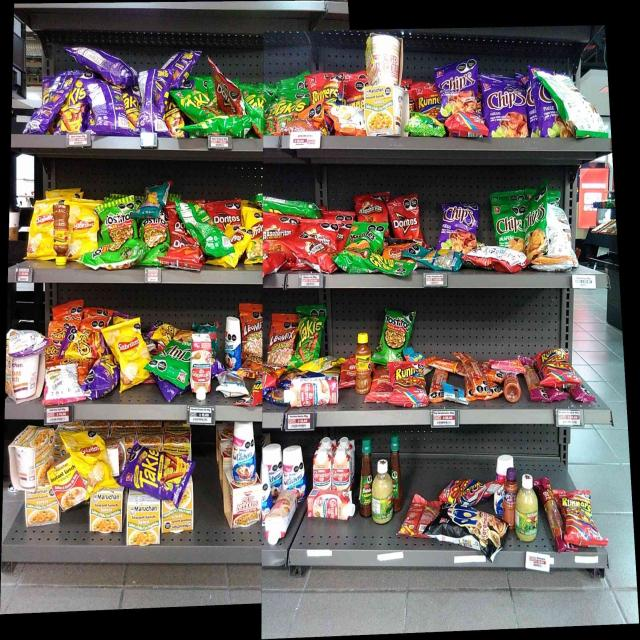bitzEnchilado95: (467, 352, 488, 401)
bitzHabanero: (540, 472, 562, 549), (524, 358, 540, 400)
botaneraChilito: (52, 204, 71, 266), (356, 333, 371, 391)
cheetosFlaminHot: (65, 330, 101, 360)
chipsFuego: (485, 76, 526, 140), (441, 204, 476, 246), (537, 90, 558, 138)
chipsJalapeno: (441, 66, 478, 113), (162, 330, 189, 387), (525, 201, 546, 257), (494, 203, 523, 243)
chipsPapatinas: (410, 116, 442, 138)
delPrimoSalsa: (517, 474, 538, 540), (373, 461, 394, 523)
doritosNacho: (389, 198, 425, 239), (215, 82, 243, 116), (171, 236, 195, 267), (209, 202, 241, 222)
fritosLimon: (246, 210, 262, 262)
leoCacahuates: (217, 372, 247, 398)
leoMix: (269, 310, 295, 365), (243, 304, 263, 361)
maruchanPollo: (364, 86, 406, 136), (9, 430, 47, 483), (6, 359, 42, 403), (128, 497, 160, 545), (92, 492, 122, 535), (24, 490, 54, 524), (163, 502, 192, 534)
maruchanRes: (56, 464, 77, 511)
nestleCarnation: (288, 377, 338, 409), (306, 491, 356, 519), (266, 496, 293, 546), (192, 334, 211, 400), (311, 454, 330, 488), (331, 456, 352, 486)
nestleLechera: (232, 422, 256, 483), (283, 446, 306, 491), (224, 316, 241, 369), (263, 447, 281, 489)
nissinCamaron: (364, 34, 403, 84)
nissinRes: (232, 484, 262, 530)
popKarameladas: (439, 506, 504, 546)
productoAtras: (65, 42, 136, 84), (566, 85, 597, 136), (88, 87, 121, 133), (142, 71, 164, 133), (548, 204, 572, 257), (325, 106, 363, 136), (478, 248, 524, 272), (36, 87, 58, 135), (46, 367, 76, 402), (411, 496, 431, 537), (172, 49, 192, 88), (9, 331, 46, 352), (188, 204, 208, 232), (444, 384, 465, 403)
rancheritos: (264, 212, 294, 241), (356, 196, 388, 222), (304, 220, 336, 244), (301, 245, 324, 266)
rufflesQueso: (350, 224, 384, 250)
runners: (389, 362, 427, 408), (566, 488, 591, 546), (444, 479, 490, 502), (543, 347, 570, 386), (306, 74, 340, 99), (415, 89, 438, 112)
sabritasOriginal: (118, 326, 142, 392), (79, 432, 104, 488), (30, 204, 51, 258), (72, 207, 95, 250)
salsaBufalo: (359, 439, 372, 516)
semillasGirasol: (417, 250, 461, 271), (143, 186, 163, 215)
tajinDulce: (505, 468, 515, 526)
takisFuego: (128, 449, 190, 490), (62, 90, 86, 134), (165, 102, 182, 134), (123, 93, 140, 118)
takisOriginal: (297, 308, 320, 358), (347, 251, 393, 273), (264, 95, 290, 129), (186, 93, 212, 118)
tostitos: (97, 202, 136, 242), (379, 312, 408, 360), (96, 244, 140, 268), (141, 218, 170, 250)
